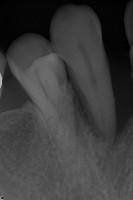Dental Caries: (77, 63, 133, 142)
